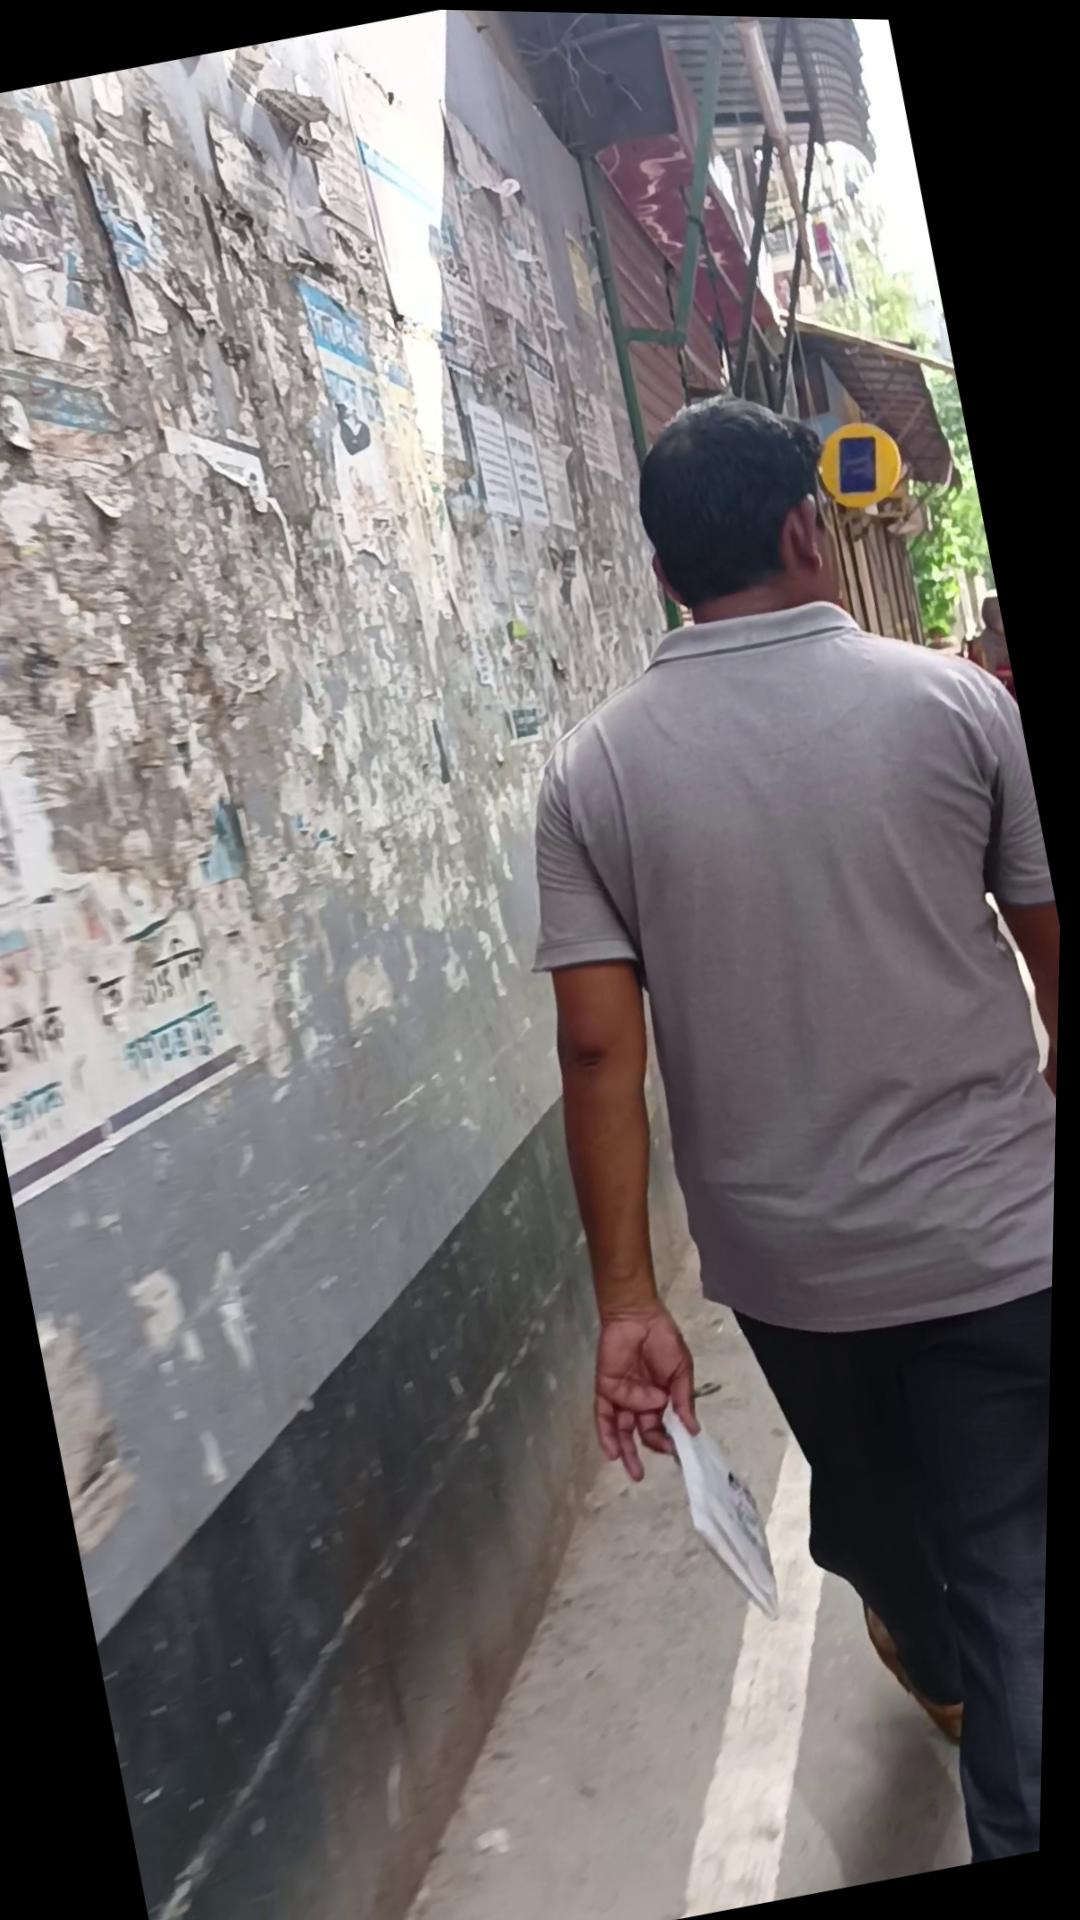Crosswalk: (588, 1408, 905, 1915)
Muddy road: (384, 334, 1075, 1917), (959, 587, 1021, 704)
Stuck-water: (807, 407, 913, 513)
Tree: (0, 38, 690, 1920)
